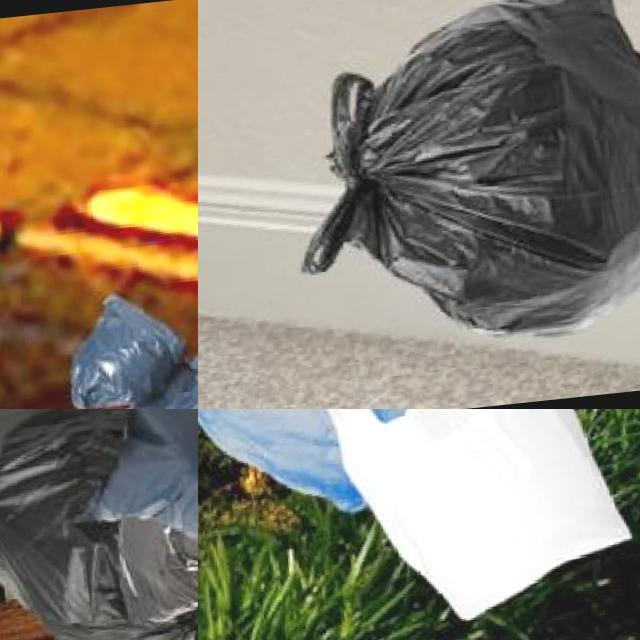waste: (279, 0, 640, 359), (307, 409, 640, 628), (0, 409, 198, 640), (198, 409, 436, 521), (93, 409, 198, 582), (65, 286, 187, 409)
